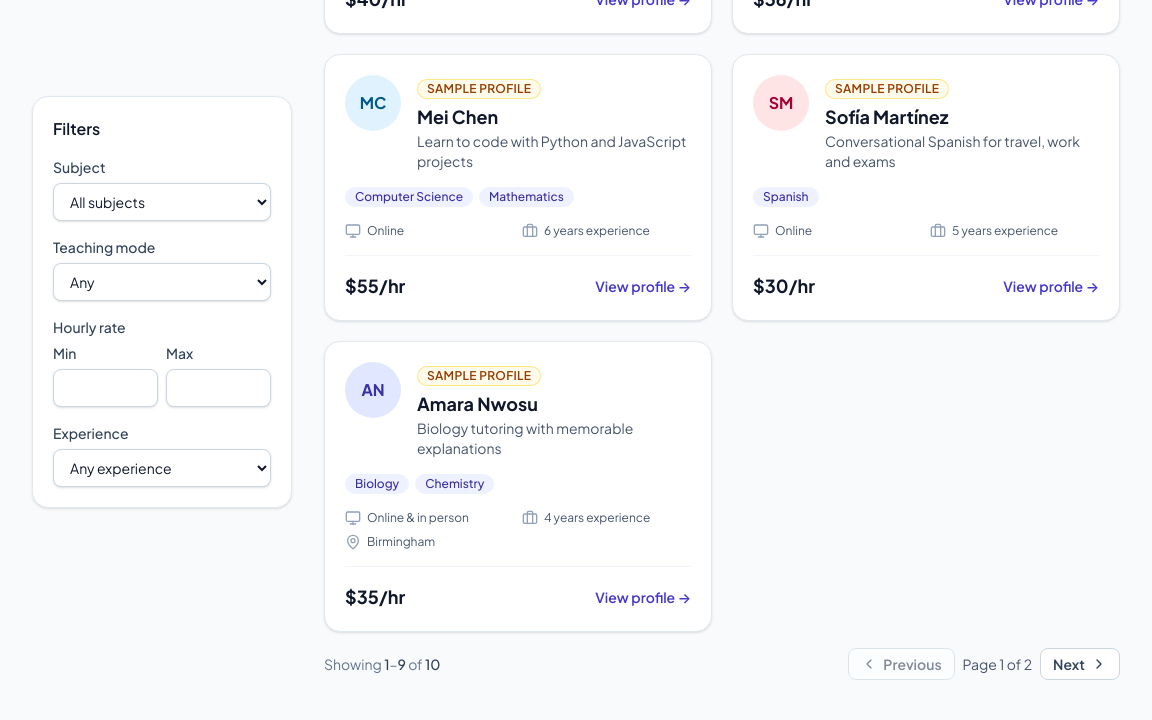
Test: tutor search page (demo data) › paginates results
(page scrolled)
Click the button "Next".
click(1080, 664)  # box [1040,648,1120,680]
(page scrolled)
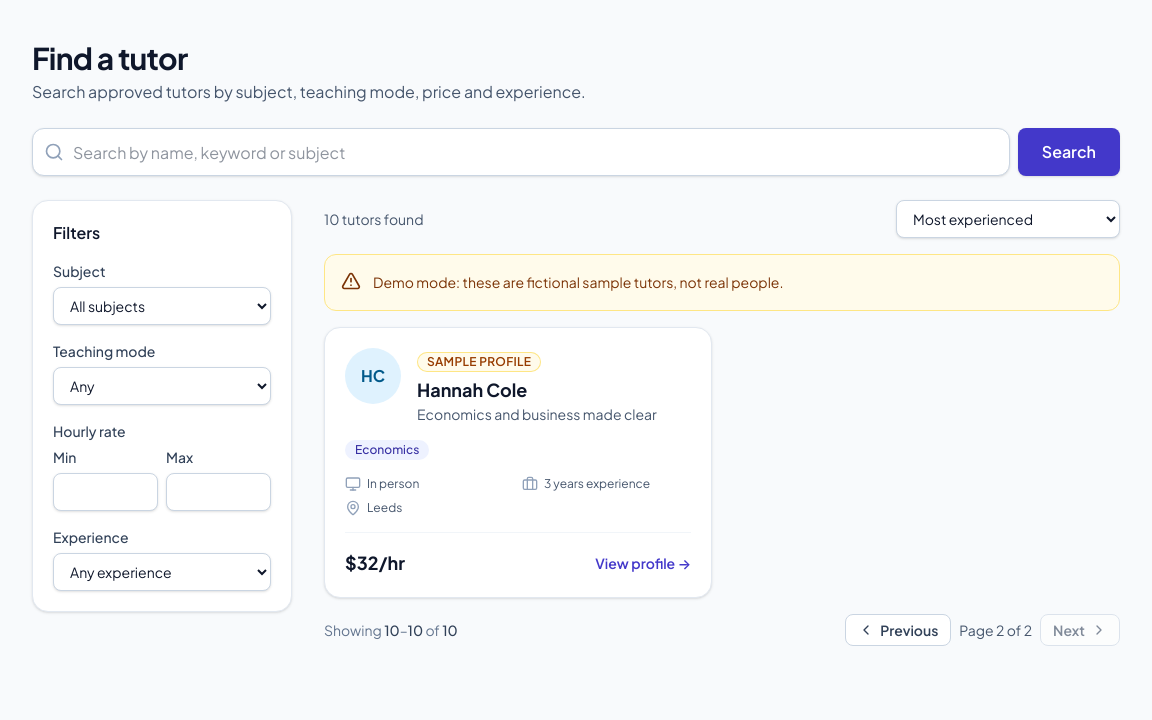
Check: the text "Page 2 of 2" is shown, box [959,620,1032,640]
